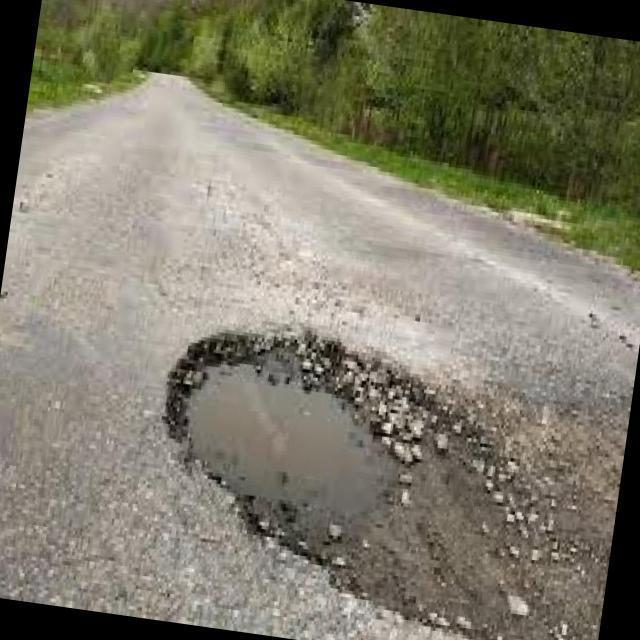pothole: (139, 310, 565, 634)
